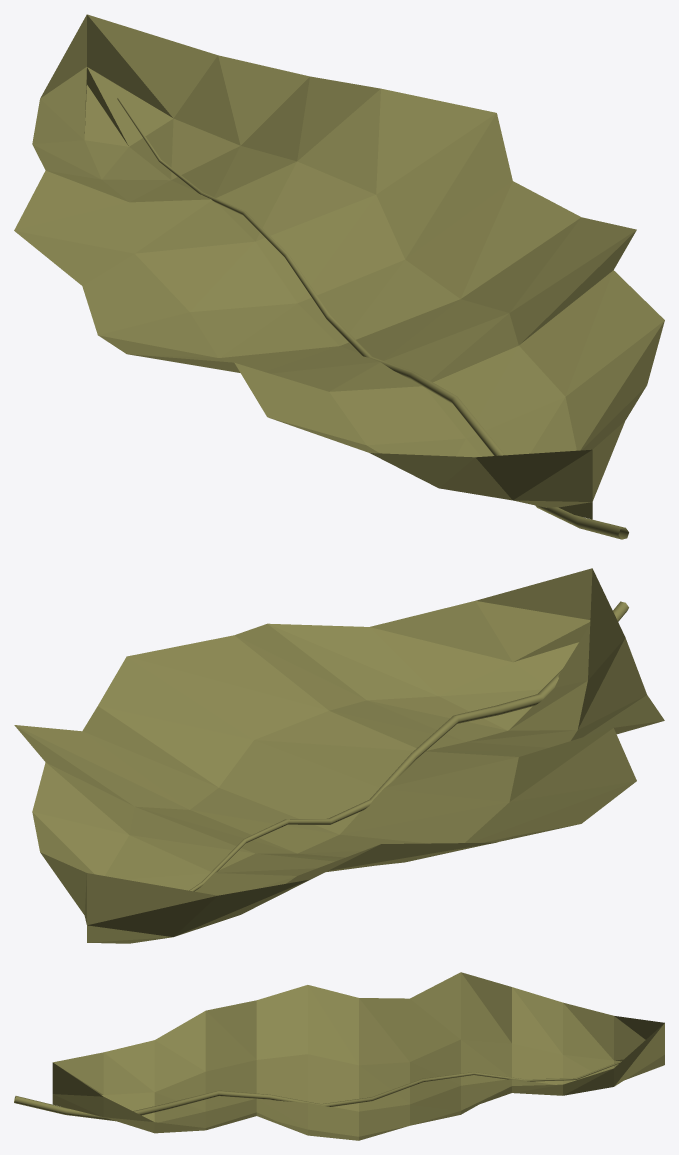
Rendered from leaf_02.glb.
3 views of the same model, one above another, from view 1: azimuth 30°, elevation 25°; view 2: azimuth 150°, elevation 25°; view 3: azimuth 270°, elevation 25° (orthographic). The views are drawn at different scales.
Parts seen in each view (by area): view 1: Leaf with curled edges; view 2: Leaf with curled edges; view 3: Leaf with curled edges.
Boxes of the visible parts, x1=… form: Leaf with curled edges: x1=14, y1=14, x2=664, y2=539; Leaf with curled edges: x1=14, y1=568, x2=664, y2=943; Leaf with curled edges: x1=14, y1=972, x2=664, y2=1140.
Bounding box in the file's own units: 0.0612 × 0.019 × 0.1116.
